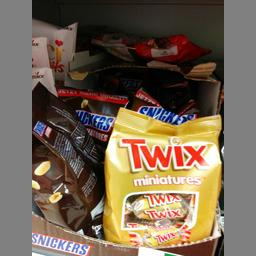chocolate: (104, 105, 223, 246), (31, 80, 104, 238)
